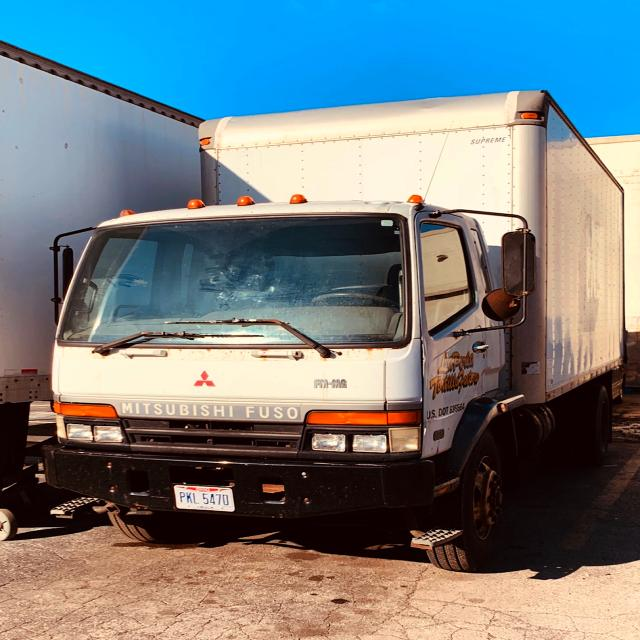truck: (40, 85, 628, 555)
